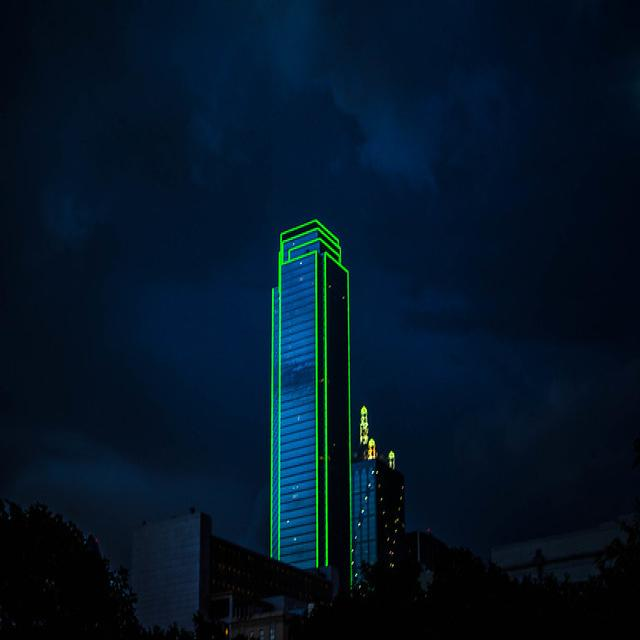building: (266, 213, 354, 592)
